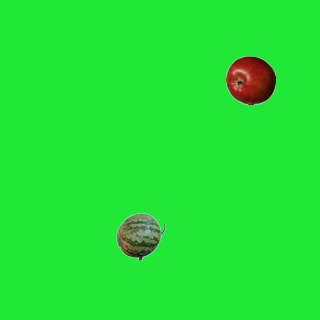Apple Braeburn: (225, 55, 275, 105)
Watermelon: (115, 211, 165, 261)
